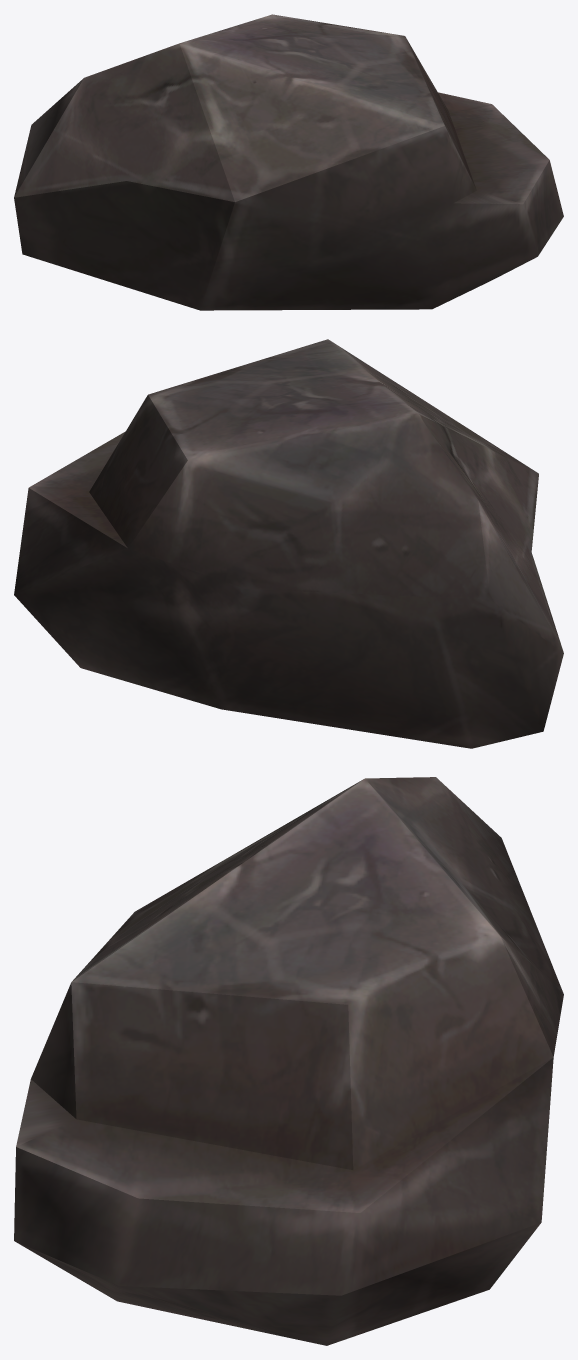
Rendered from yewai_01_stone_01.fbx.
The picture shows the model from 3 angles, top to bottom: view 1: azimuth 30°, elevation 25°; view 2: azimuth 150°, elevation 25°; view 3: azimuth 270°, elevation 25°; orthographic projection. The views are drawn at different scales.
Visible parts, largest first — view 1: pCube1; view 2: pCube1; view 3: pCube1.
Boxes of the visible parts, x1,y1,x2,y2 form: pCube1: (14, 14, 563, 310); pCube1: (14, 339, 563, 748); pCube1: (14, 777, 563, 1345).
Bounding box in the file's own units: 398 × 229 × 274.
1 material, 1 textured.
